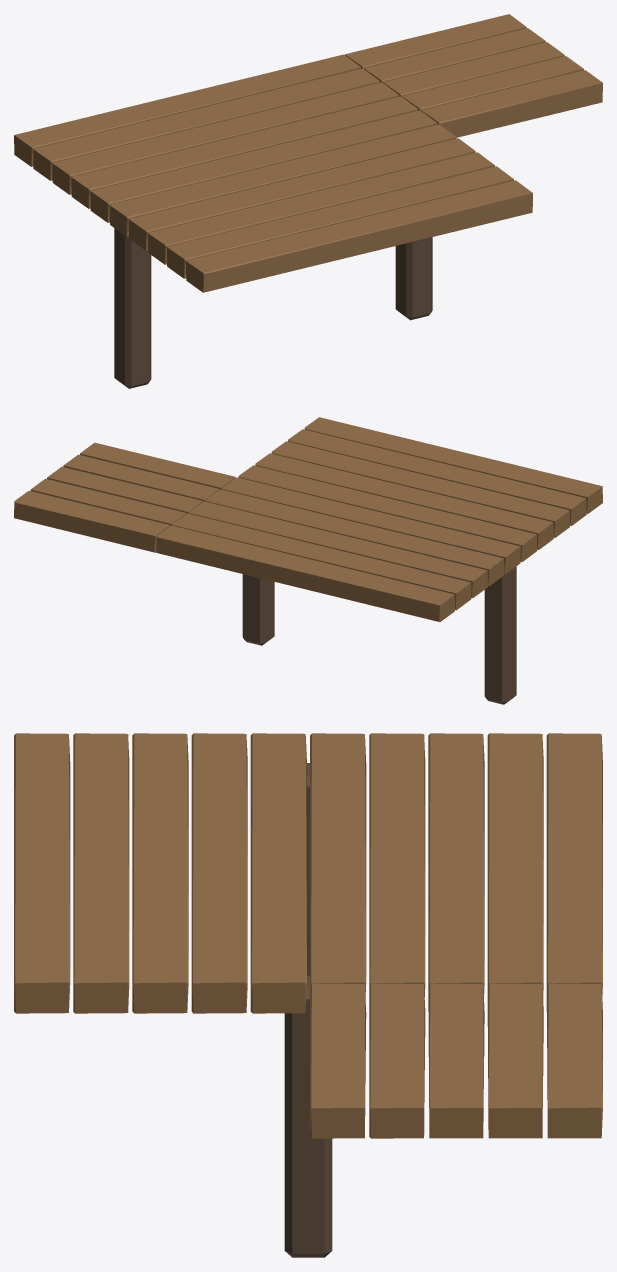
The model's file is harbor-pier-corner.lod1.glb.
3 renders of one model, top to bottom at view 1: azimuth 30°, elevation 25°; view 2: azimuth 150°, elevation 25°; view 3: azimuth 270°, elevation 25°, orthographic. The views are drawn at different scales.
Visible parts, largest first — view 1: harbor-pier-corner__body; view 2: harbor-pier-corner__body; view 3: harbor-pier-corner__body.
Boxes of the visible parts, left/top/right/bottom form: harbor-pier-corner__body: left=14, top=14, right=602, bottom=388; harbor-pier-corner__body: left=14, top=417, right=602, bottom=704; harbor-pier-corner__body: left=14, top=733, right=602, bottom=1257.
Size of the model in its own units: 2.99 by 1.07 by 1.99.
